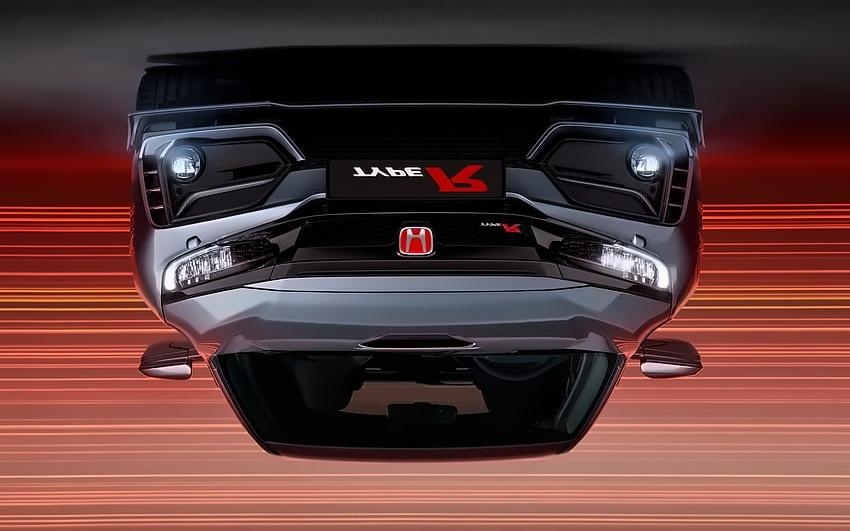Car hood: (156, 273, 684, 354)
Front bumper: (109, 97, 717, 231)
Headlight - -L-: (151, 235, 282, 300)
Headlight - -R-: (556, 235, 685, 304)
Side mirror - -L-: (123, 329, 212, 389)
Side mirror - -R-: (617, 332, 712, 389)
